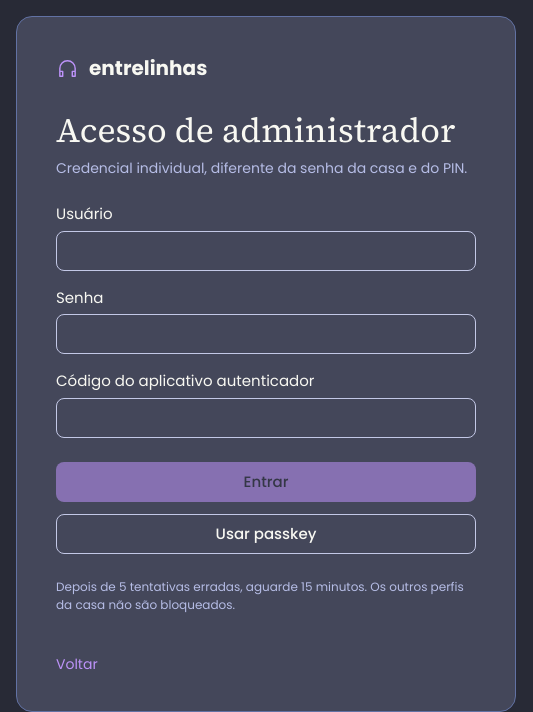
Scenario: clicking "Usar passkey" informs that passkeys are unavailable in simulated version without HTTP request
Click the button "Usar passkey" at (266, 534), box [56,514,476,554]
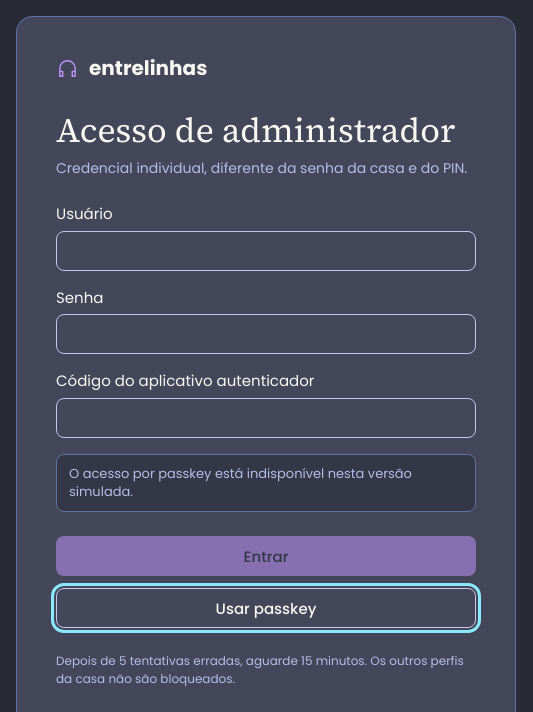
Result: the message shows "passkey está indisponível nesta versão simulada" at [69,464,412,501]
Typing in inputs clears notice
Type "e" into the field labelled "Usuário" at (266, 251), box [56,231,476,271]
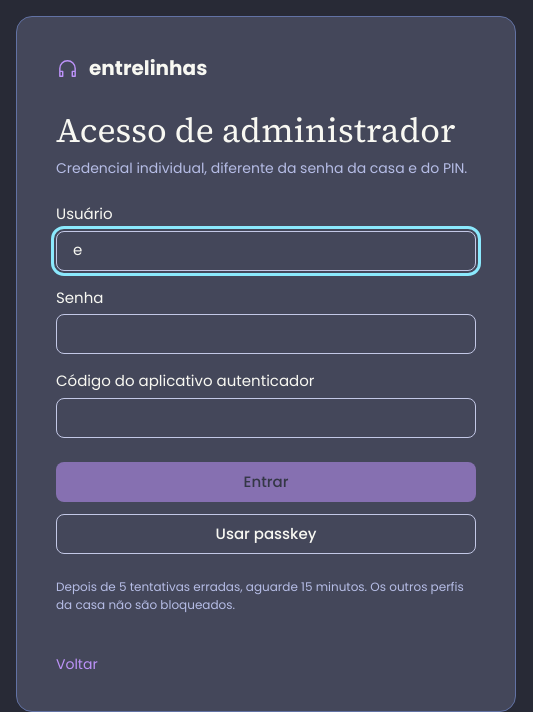
Result: the message "O acesso por passkey está indisponível nesta versão simulada." is gone
